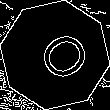O_SW: (22, 23, 88, 87)
